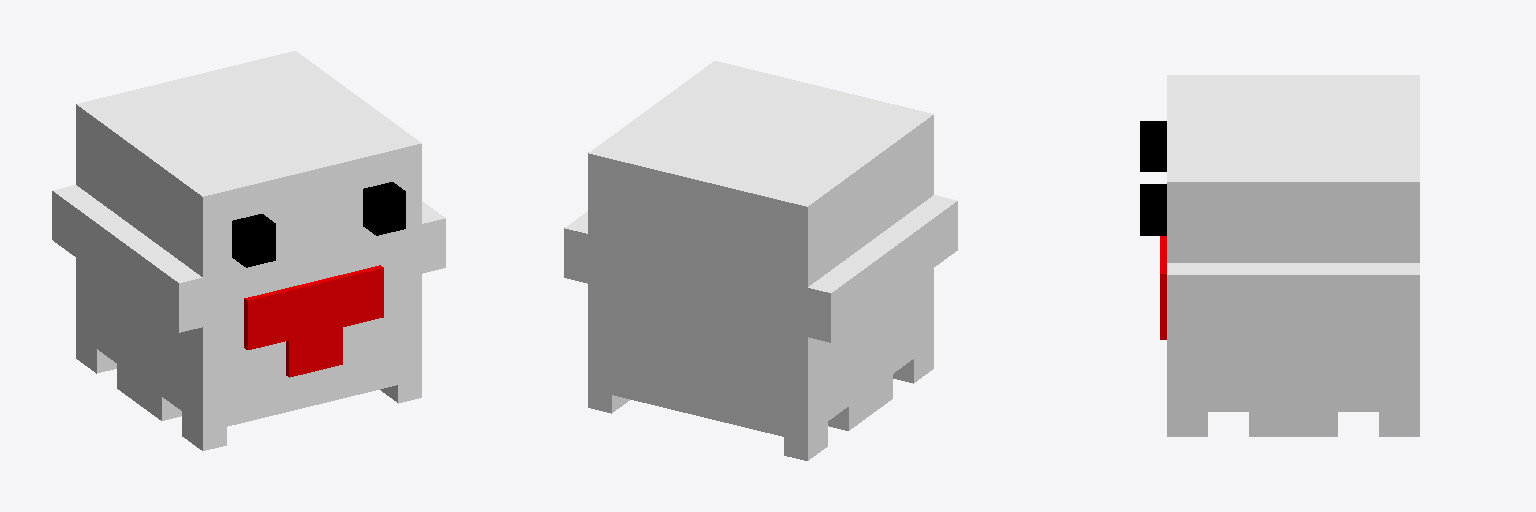
The picture shows the model from 3 angles: view 1: azimuth 30°, elevation 25°; view 2: azimuth 150°, elevation 25°; view 3: azimuth 270°, elevation 25°; orthographic projection.
Bounding box in the file's own units: 45 × 41 × 41.
1 materials, 1 textured.